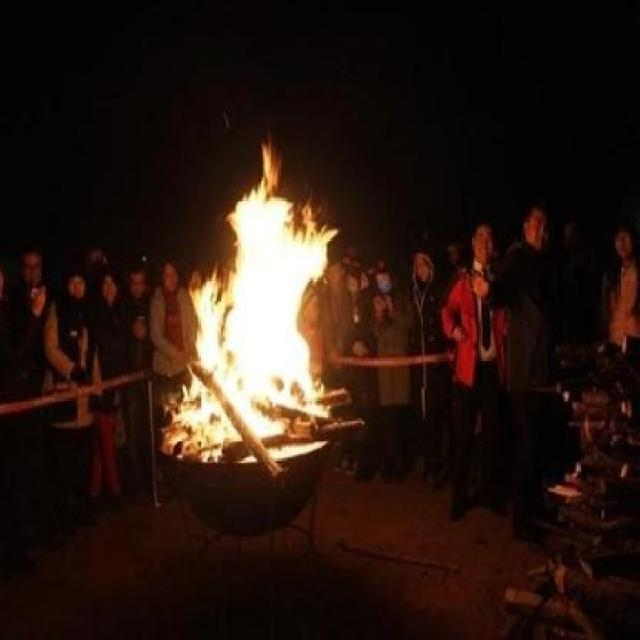Fire: (164, 114, 336, 469)
